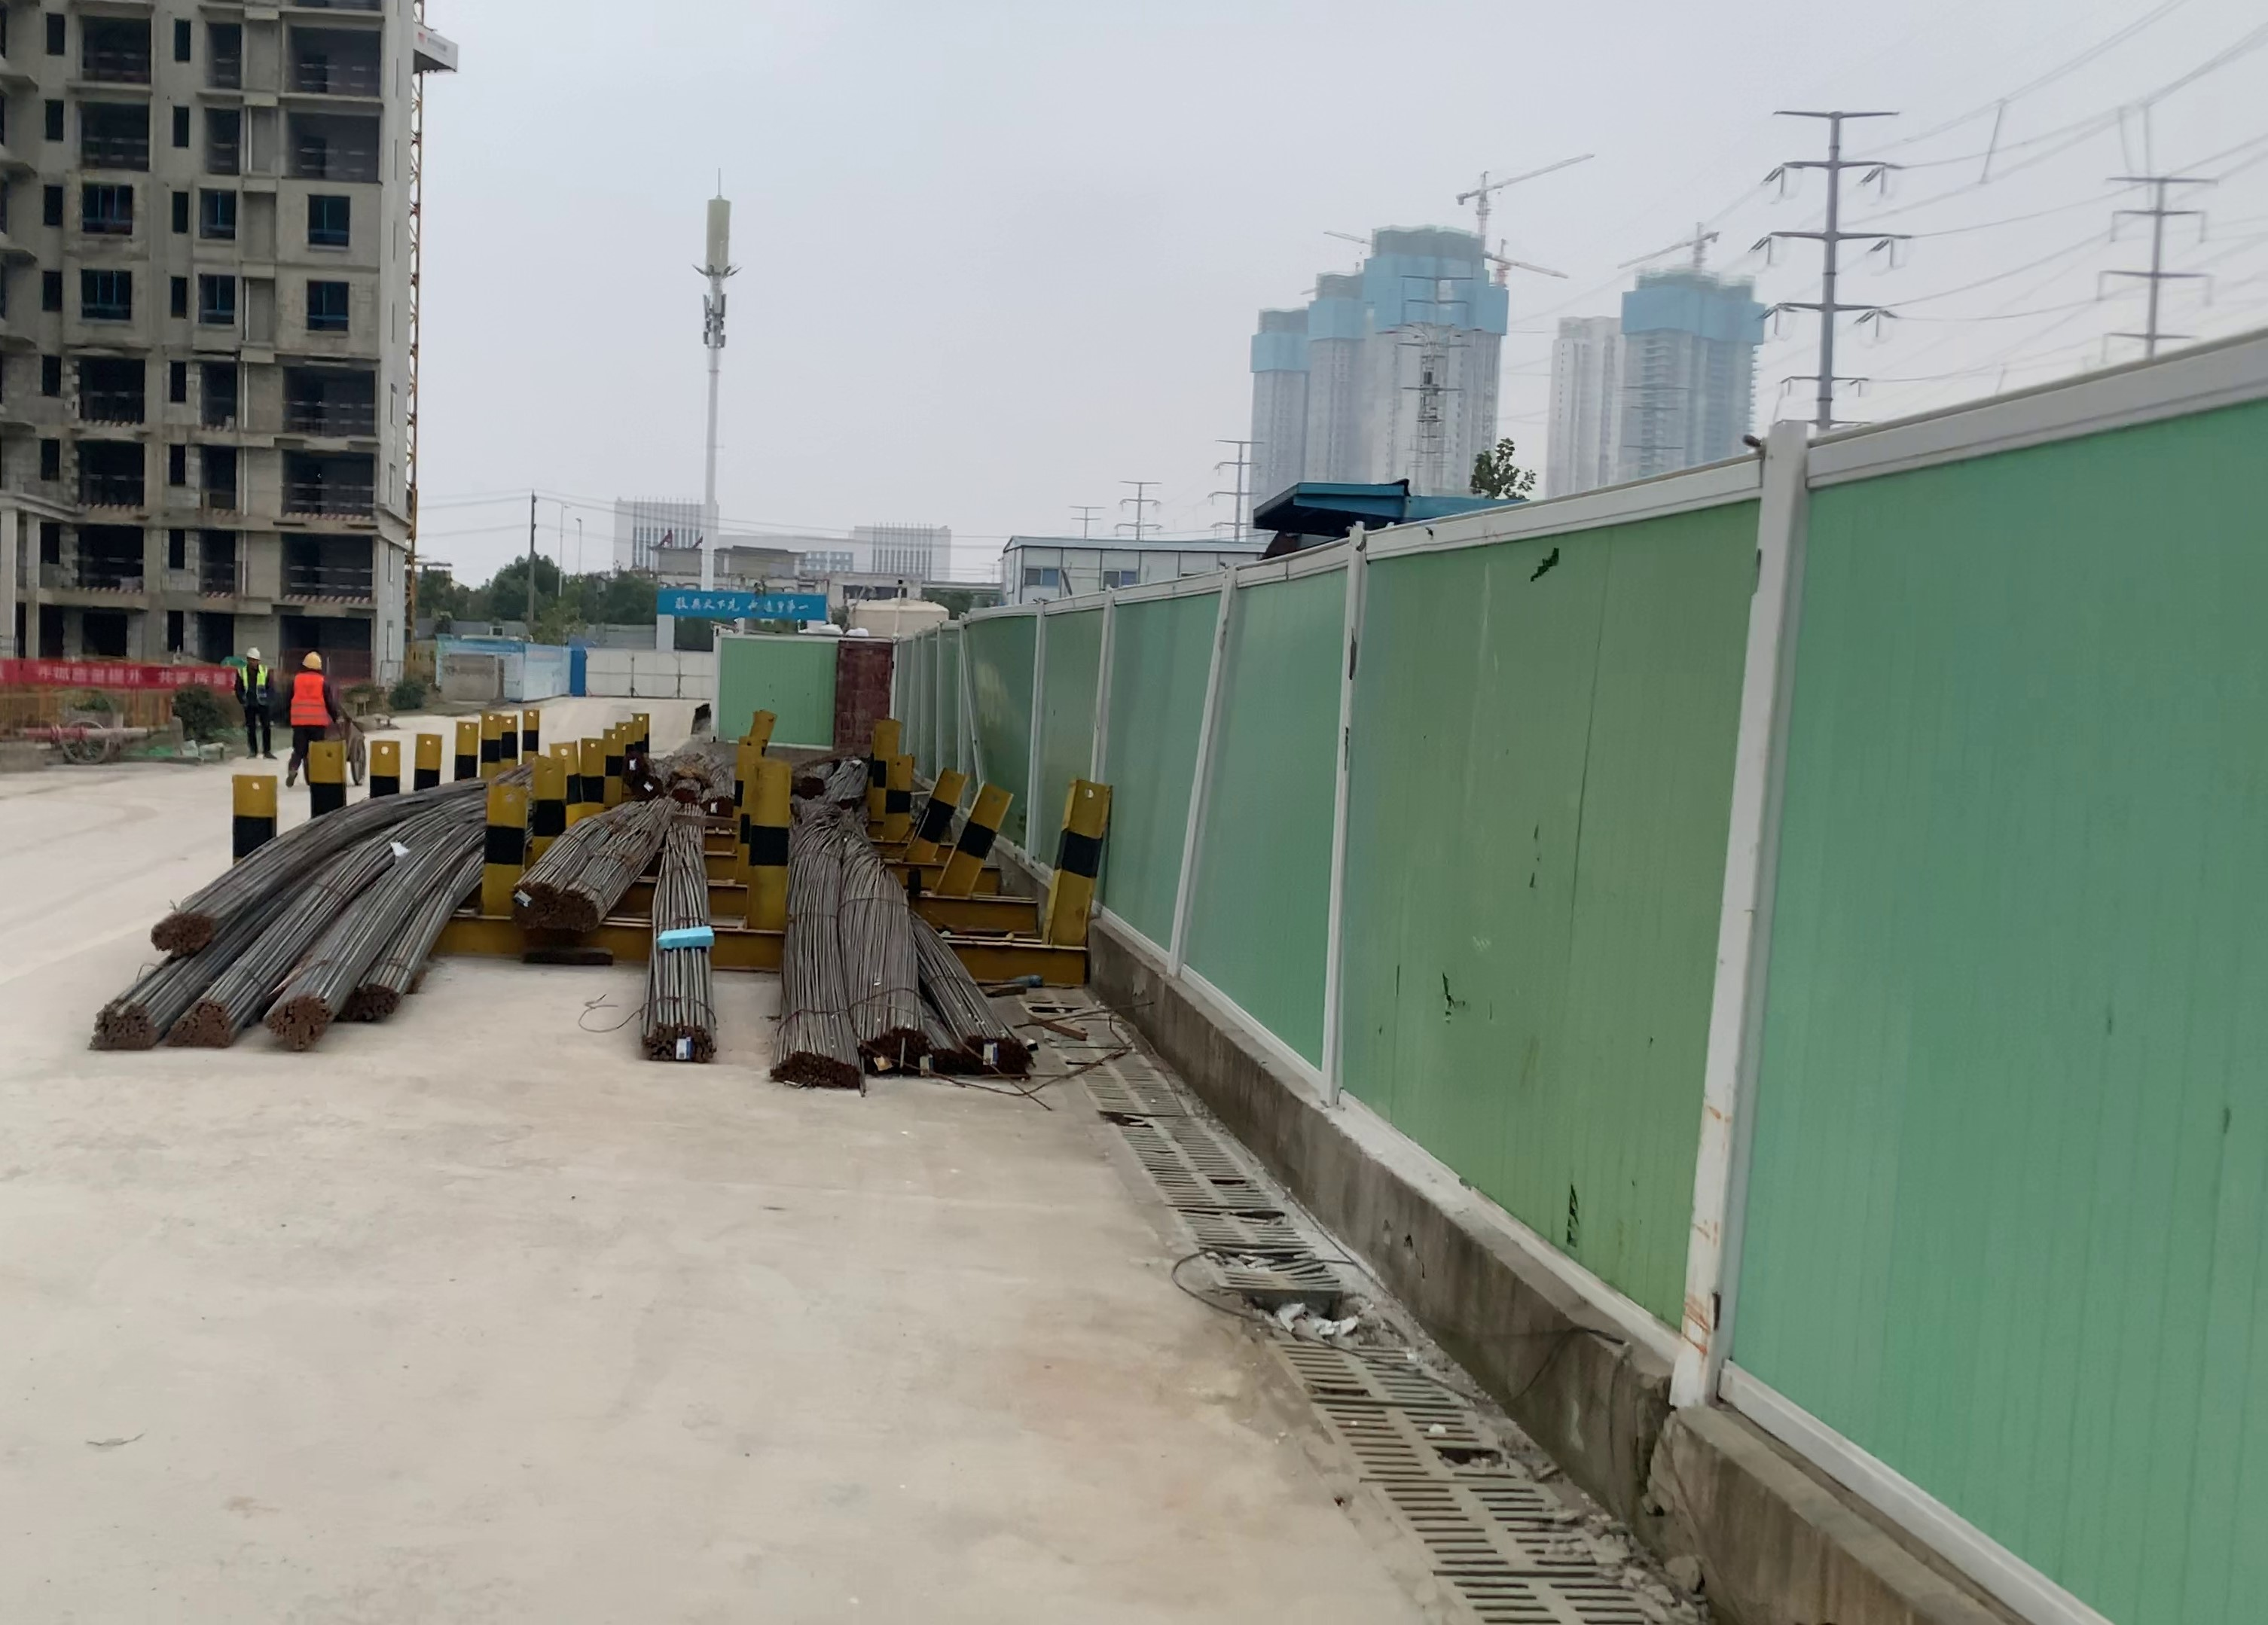rebar: (948, 1029, 1035, 1078), (262, 999, 336, 1048), (646, 1006, 709, 1057), (90, 1004, 160, 1048), (774, 1053, 859, 1089), (150, 909, 215, 950), (864, 1025, 922, 1069), (172, 999, 227, 1045), (561, 886, 605, 930), (514, 881, 556, 927), (345, 992, 405, 1022)
